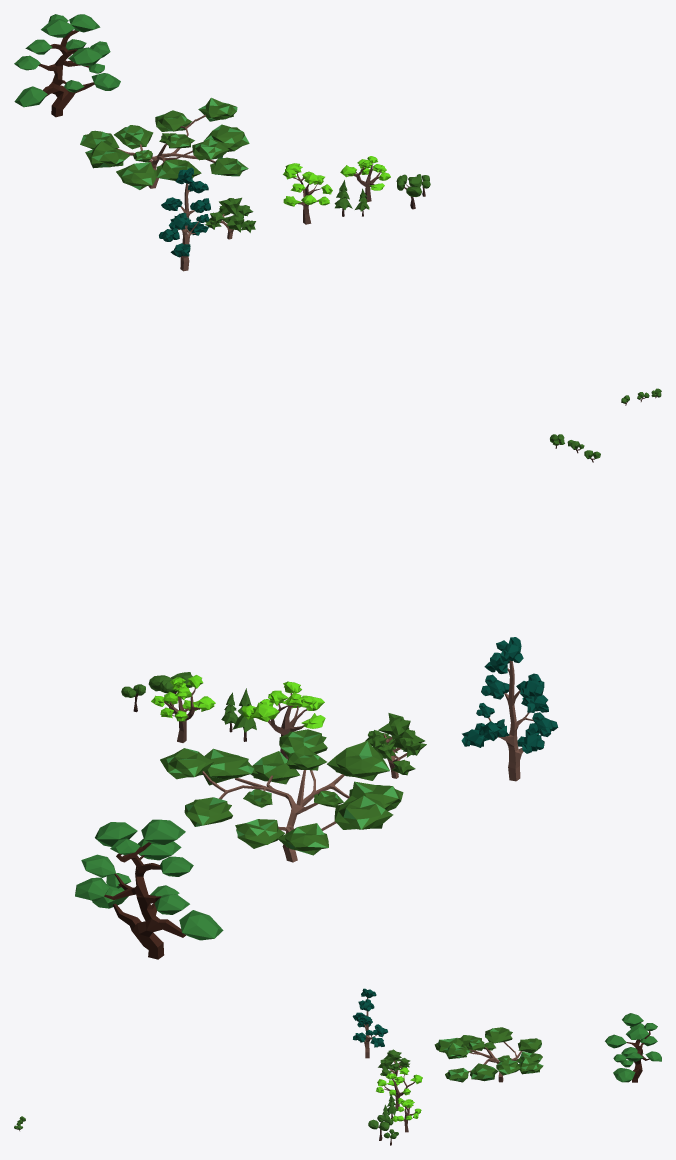
File: trees.fbx
3 views of the same model, one above another, from view 1: azimuth 30°, elevation 25°; view 2: azimuth 150°, elevation 25°; view 3: azimuth 270°, elevation 25° (orthographic). The views are drawn at different scales.
Parts seen in each view (by area): view 1: Tree8_leaves, Tree10_leaves, Tree9_leaves, Tree10, Tree7_leaves, Tree6_leaves, Tree5_leaves, Tree8; view 2: Tree8_leaves, Tree10_leaves, Tree9_leaves, Tree10, Tree7_leaves, Tree8, Tree6_leaves, Tree5_leaves, Tree9; view 3: Tree8_leaves, Tree10_leaves, Tree9_leaves, Tree6_leaves, Tree7_leaves, Tree10, Tree5_leaves, Tree8, Tree2_leaves.
Boxes of the visible parts, x1=… form: Tree8_leaves: x1=80, y1=97, x2=249, y2=189; Tree10_leaves: x1=14, y1=14, x2=120, y2=107; Tree9_leaves: x1=159, y1=167, x2=210, y2=257; Tree10: x1=38, y1=30, x2=94, y2=117; Tree7_leaves: x1=205, y1=197, x2=255, y2=232; Tree6_leaves: x1=283, y1=163, x2=332, y2=206; Tree5_leaves: x1=340, y1=156, x2=390, y2=190; Tree8: x1=117, y1=114, x2=215, y2=188; Tree8_leaves: x1=160, y1=729, x2=403, y2=855; Tree10_leaves: x1=75, y1=819, x2=223, y2=940; Tree9_leaves: x1=461, y1=637, x2=558, y2=753; Tree10: x1=104, y1=842, x2=186, y2=959; Tree7_leaves: x1=364, y1=713, x2=426, y2=775; Tree8: x1=202, y1=770, x2=349, y2=862; Tree6_leaves: x1=241, y1=681, x2=325, y2=728; Tree5_leaves: x1=151, y1=675, x2=215, y2=721; Tree9: x1=488, y1=660, x2=533, y2=781; Tree8_leaves: x1=434, y1=1027, x2=543, y2=1082; Tree10_leaves: x1=605, y1=1013, x2=661, y2=1082; Tree9_leaves: x1=352, y1=988, x2=387, y2=1047; Tree6_leaves: x1=376, y1=1067, x2=422, y2=1095; Tree7_leaves: x1=378, y1=1049, x2=410, y2=1076; Tree10: x1=627, y1=1031, x2=650, y2=1082; Tree5_leaves: x1=391, y1=1098, x2=421, y2=1121; Tree8: x1=468, y1=1042, x2=521, y2=1082; Tree2_leaves: x1=368, y1=1115, x2=393, y2=1130.
Size of the model in its own units: 45.69 by 15.66 by 127.
